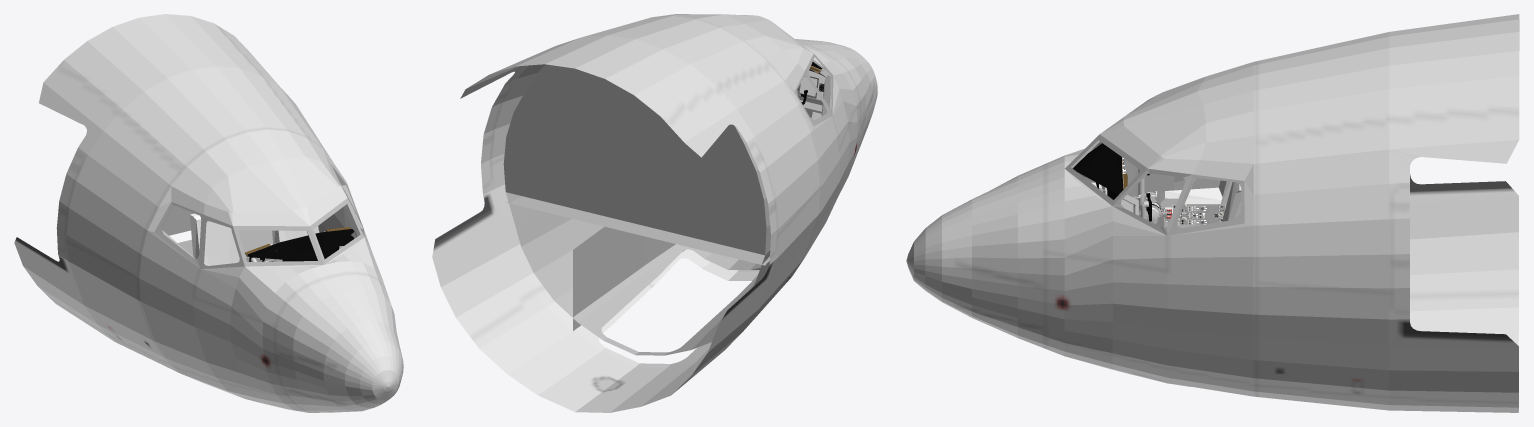
Rendered from b738-cockpit.glb.
The picture shows the model from 3 angles, left to right: view 1: azimuth 30°, elevation 25°; view 2: azimuth 150°, elevation 25°; view 3: azimuth 270°, elevation 25°; orthographic projection. The views are drawn at different scales.
Parts seen in each view (by area): view 1: 737-800.ac:DefaultWhite.013, 737-800.ac:ac3dmat13.003, 737-800.ac:DefaultWhite.014, cockpit.ac:ac3dmat1.003, flightdesk.ac:ac3dmat0.003, cockpit.ac:DefaultWhite.001, cockpit.ac:ac3dmat13.011; view 2: 737-800.ac:DefaultWhite.013, cockpit.ac:DefaultWhite.001, 737-800.ac:ac3dmat13.003 (×2), cockpit.ac:ac3dmat13.011, 737-800.ac:DefaultWhite.014, flightdesk.ac:Flightdesk; view 3: 737-800.ac:DefaultWhite.013, 737-800.ac:ac3dmat13.003, 737-800.ac:DefaultWhite.014, flightdesk.ac:ac3dmat0.003, cockpit.ac:ac3dmat1.003, cockpit.ac:ac3dmat13.011, pedestal.ac:DefaultWhite.000.
Boxes of the visible parts, left/top/right/bottom form: 737-800.ac:DefaultWhite.013: left=14, top=14, right=403, bottom=412; 737-800.ac:ac3dmat13.003: left=154, top=164, right=364, bottom=268; 737-800.ac:DefaultWhite.014: left=171, top=150, right=347, bottom=226; cockpit.ac:ac3dmat1.003: left=190, top=213, right=318, bottom=265; flightdesk.ac:ac3dmat0.003: left=247, top=229, right=354, bottom=261; cockpit.ac:DefaultWhite.001: left=161, top=168, right=363, bottom=258; cockpit.ac:ac3dmat13.011: left=177, top=228, right=362, bottom=256; 737-800.ac:DefaultWhite.013: left=432, top=14, right=877, bottom=412; cockpit.ac:DefaultWhite.001: left=503, top=60, right=831, bottom=355; 737-800.ac:ac3dmat13.003 (×2): left=573, top=53, right=833, bottom=330; cockpit.ac:ac3dmat13.011: left=506, top=75, right=830, bottom=265; 737-800.ac:DefaultWhite.014: left=769, top=20, right=813, bottom=91; flightdesk.ac:Flightdesk: left=799, top=70, right=825, bottom=99; 737-800.ac:DefaultWhite.013: left=906, top=14, right=1519, bottom=412; 737-800.ac:ac3dmat13.003: left=1065, top=134, right=1244, bottom=235; 737-800.ac:DefaultWhite.014: left=1100, top=95, right=1253, bottom=180; flightdesk.ac:ac3dmat0.003: left=1073, top=143, right=1123, bottom=199; cockpit.ac:ac3dmat1.003: left=1160, top=180, right=1241, bottom=221; cockpit.ac:ac3dmat13.011: left=1086, top=159, right=1174, bottom=202; pedestal.ac:DefaultWhite.000: left=1173, top=205, right=1224, bottom=224.
Size of the model in its own units: 3.41 by 3.83 by 5.77.
Materials: 109 (53 with a texture image).
